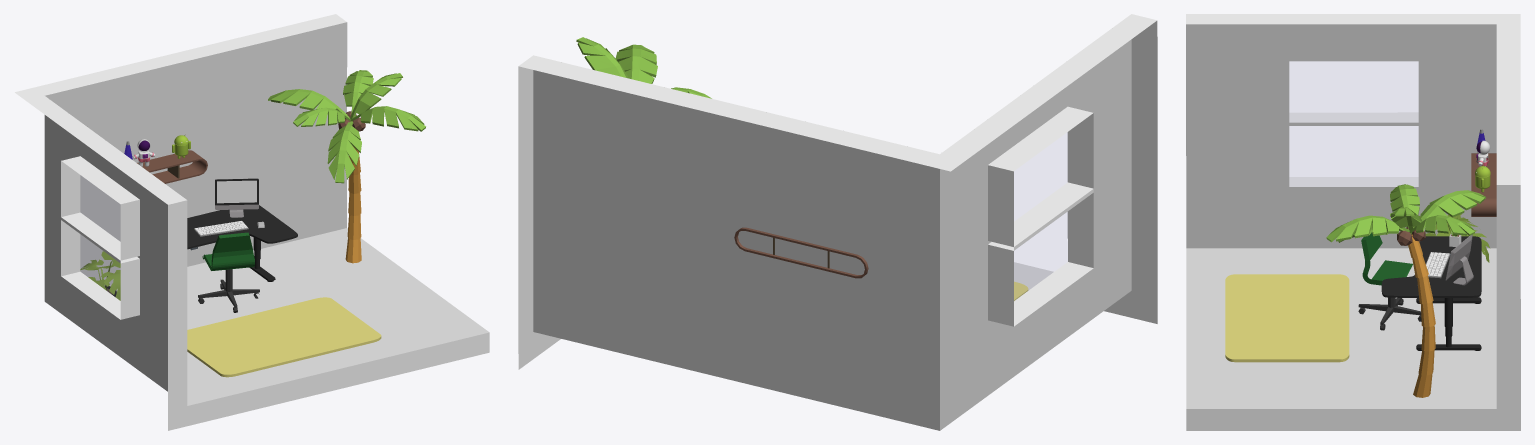
3 views of the same model, side by side, from view 1: azimuth 30°, elevation 25°; view 2: azimuth 150°, elevation 25°; view 3: azimuth 270°, elevation 25° (orthographic). The views are drawn at different scales.
Parts seen in each view (by area): view 1: Plane, WawaRug, palm_tree_01, Desk, Chair, iMac, SM_Shelf:SM_Shelf1, Houseplant_7, keyboard; view 2: Plane, palm_tree_01, SM_Shelf:SM_Shelf1; view 3: Plane, WawaRug, palm_tree_01, Desk, Chair, SM_Shelf:SM_Shelf1, iMac, keyboard, Houseplant_7, AndroidToy.
Part boxes in pixels (box(x1,y1,x2,y2)): Plane: box(15, 14, 489, 430); WawaRug: box(187, 297, 381, 377); palm_tree_01: box(268, 70, 425, 263); Desk: box(187, 205, 297, 281); Chair: box(198, 232, 259, 312); iMac: box(215, 178, 258, 217); SM_Shelf:SM_Shelf1: box(137, 150, 207, 183); Houseplant_7: box(80, 251, 120, 300); keyboard: box(194, 221, 248, 236); Plane: box(518, 14, 1157, 430); palm_tree_01: box(576, 37, 711, 98); SM_Shelf:SM_Shelf1: box(734, 227, 868, 278); Plane: box(1186, 14, 1520, 430); WawaRug: box(1225, 274, 1349, 362); palm_tree_01: box(1326, 184, 1485, 397); Desk: box(1381, 236, 1481, 350); Chair: box(1358, 232, 1421, 330); SM_Shelf:SM_Shelf1: box(1471, 153, 1496, 216); iMac: box(1445, 234, 1473, 285); keyboard: box(1426, 252, 1450, 278); Houseplant_7: box(1406, 214, 1490, 262); AndroidToy: box(1475, 164, 1490, 192).
Size of the model in its own units: 5.92 by 3.85 by 4.74.
